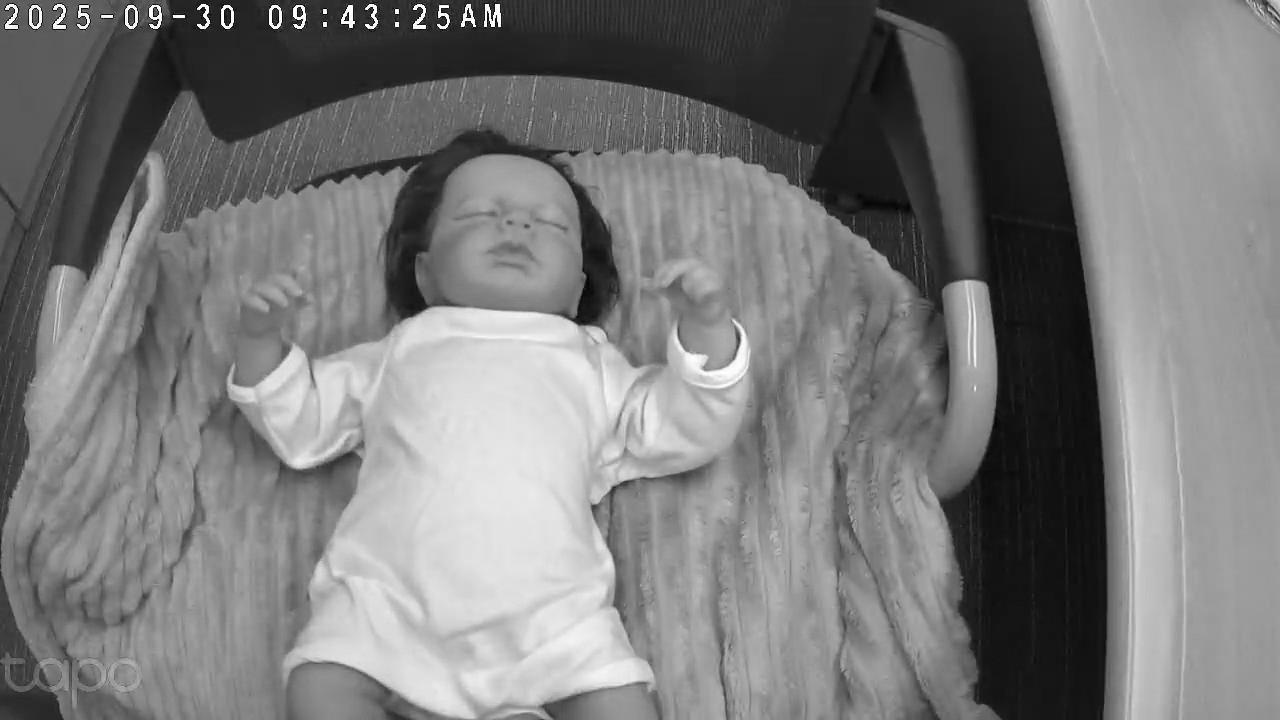hand: (236, 256, 312, 340), (640, 256, 730, 326)
